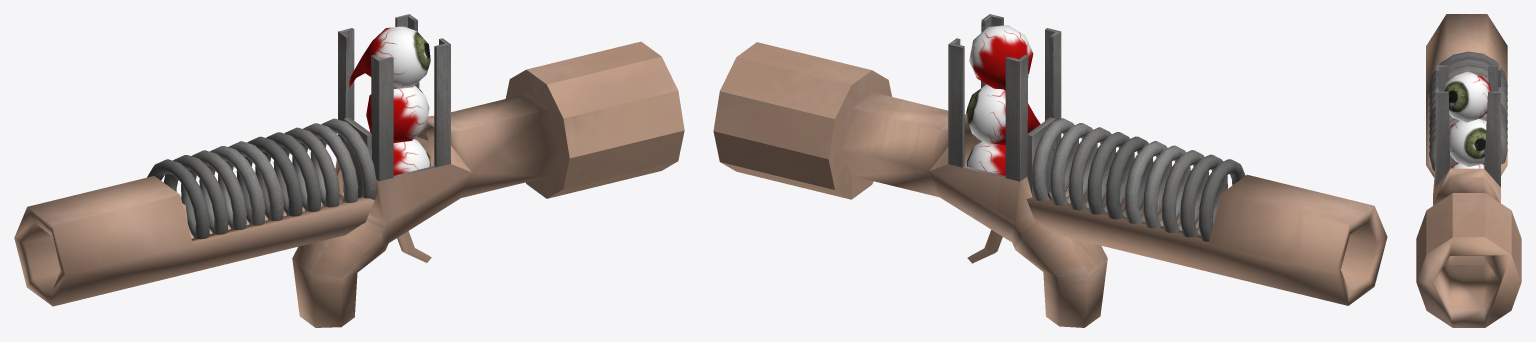
Rendered from Eyezooka.fbx.
3 renders of one model, left to right at view 1: azimuth 30°, elevation 25°; view 2: azimuth 150°, elevation 25°; view 3: azimuth 270°, elevation 25°, orthographic. The views are drawn at different scales.
Parts seen in each view (by area): view 1: AlienLauncher; view 2: AlienLauncher; view 3: AlienLauncher.
Part boxes in pixels (left/top/right/bottom): AlienLauncher: left=14, top=14, right=684, bottom=327; AlienLauncher: left=713, top=14, right=1387, bottom=327; AlienLauncher: left=1416, top=14, right=1521, bottom=327.
Bounding box in the file's own units: 2772 × 1174 × 520.
Materials: 1 (1 with a texture image).
